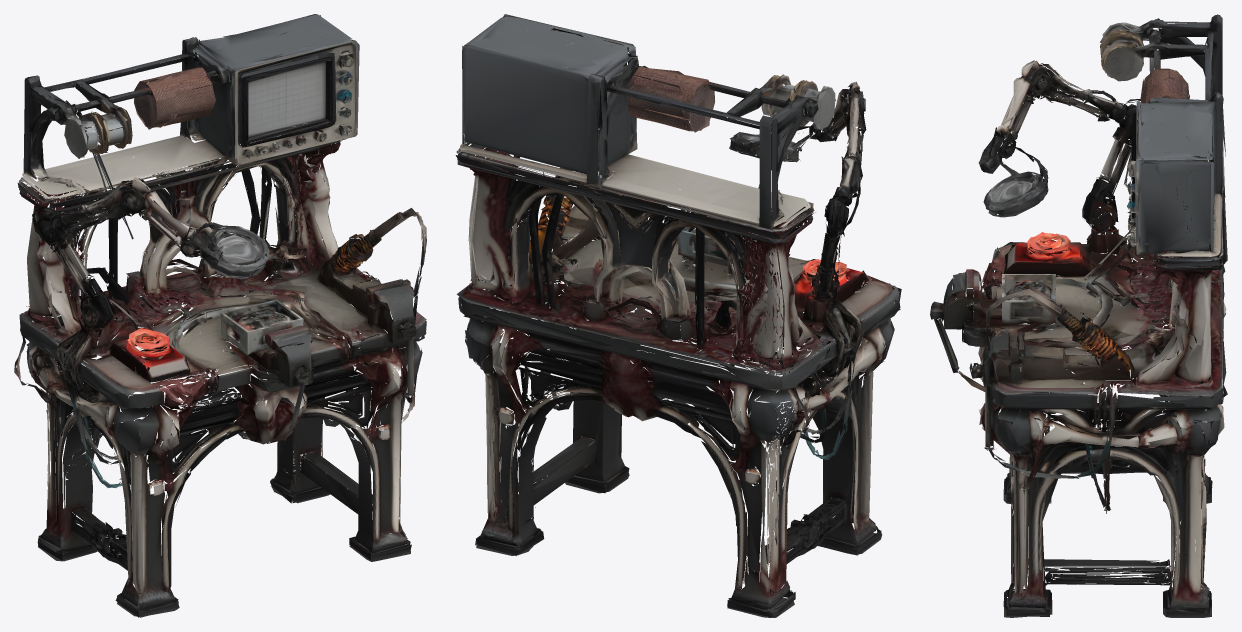
Rendered from prop_camp_meridian_repair_rig.glb.
3 views of the same model, side by side, from view 1: azimuth 30°, elevation 25°; view 2: azimuth 150°, elevation 25°; view 3: azimuth 270°, elevation 25° (orthographic). The views are drawn at different scales.
Parts seen in each view (by area): view 1: node_0; view 2: node_0; view 3: node_0.
Part boxes in pixels (left/top/right/bottom): node_0: left=14, top=14, right=426, bottom=617; node_0: left=455, top=14, right=901, bottom=617; node_0: left=930, top=14, right=1227, bottom=617.
Size of the model in its own units: 0.6866 by 0.927 by 0.5344.
Materials: 1 (1 with a texture image).
